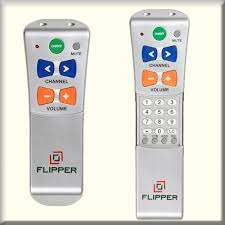remote control: (27, 17, 89, 206), (131, 14, 188, 219)
